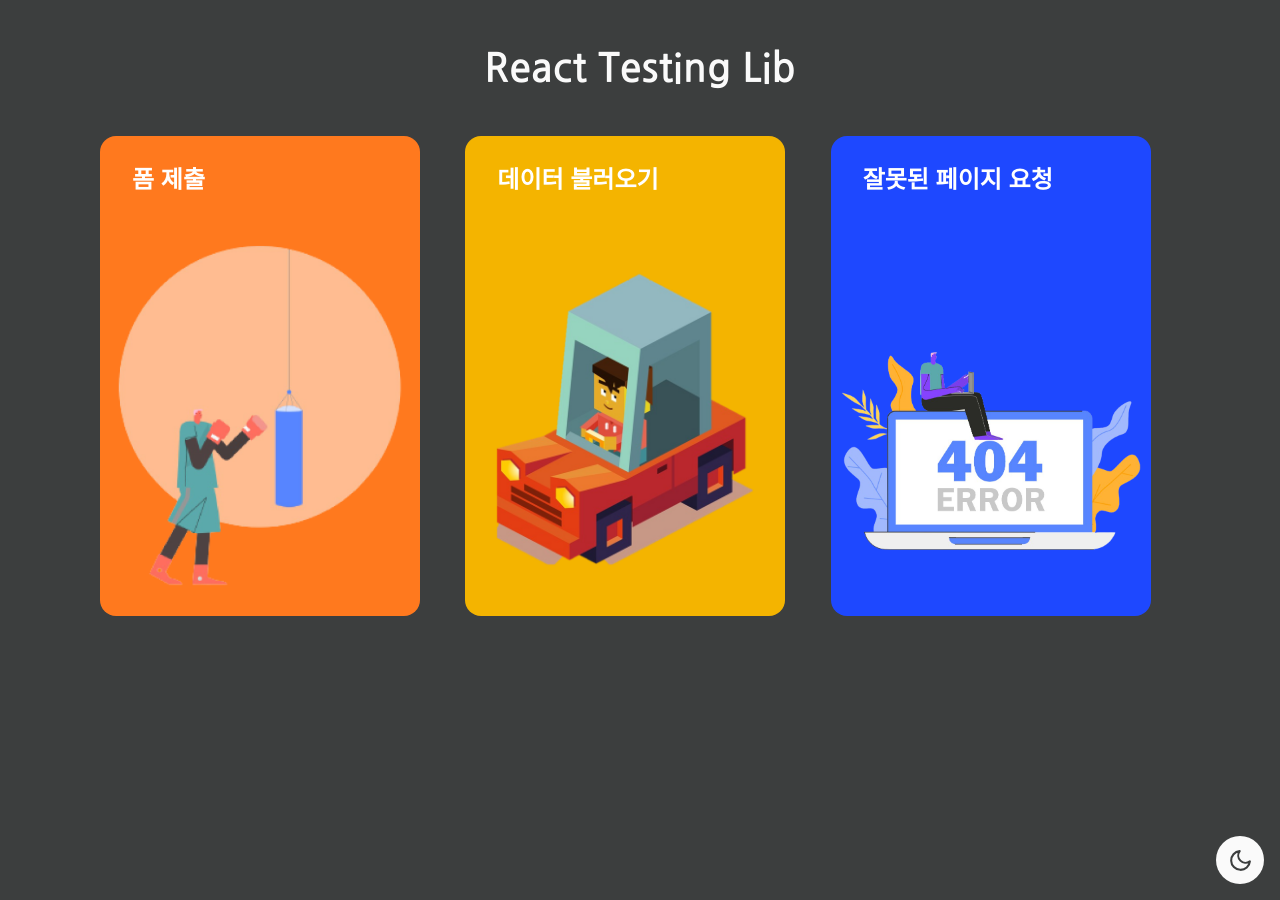
Test case: <App /> › check routing to error component
Step 1. Click the link with test id "error-link" → (991, 376), box [831,136,1151,616]
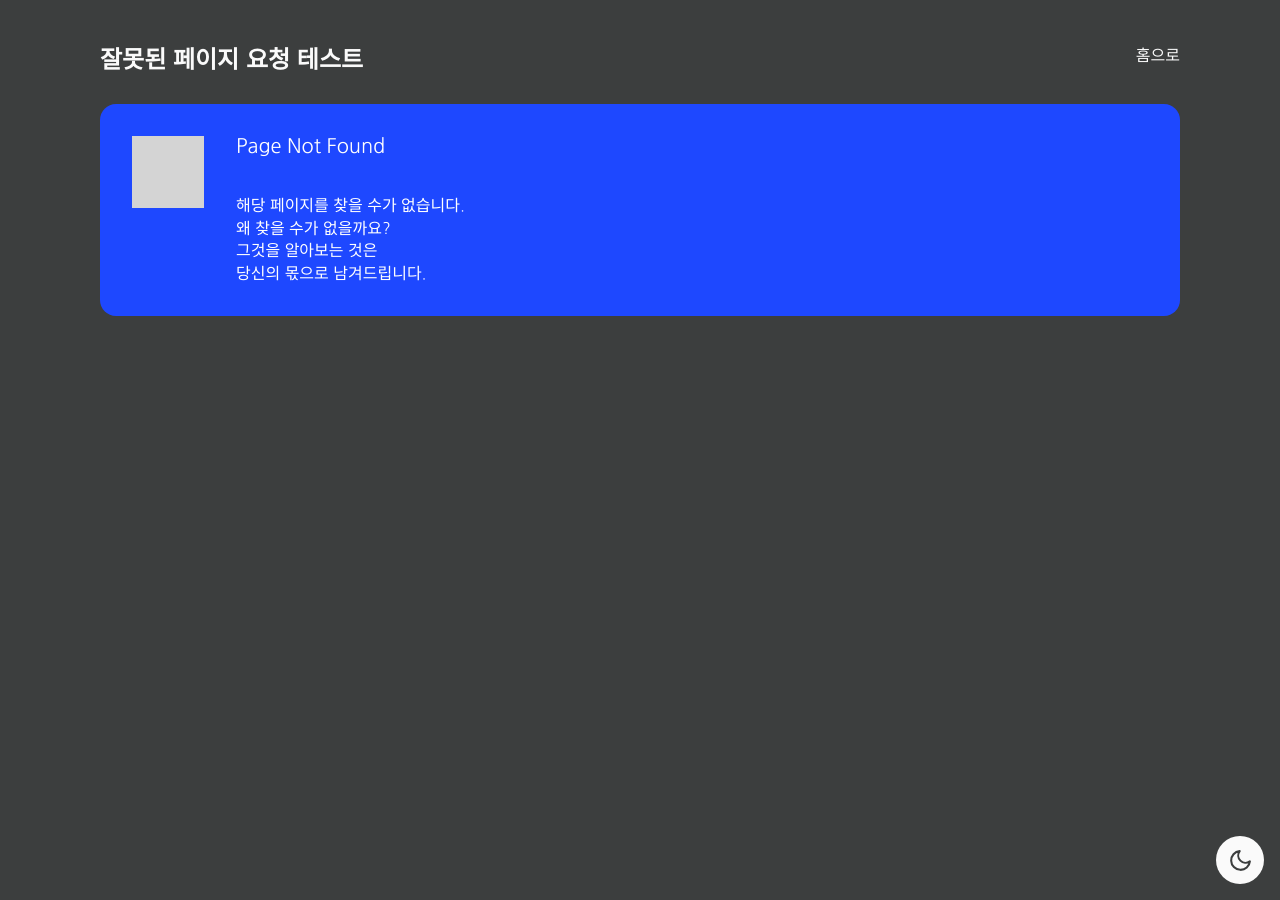
Result: the heading "Page Not Found" is shown at [236,136,385,156]
